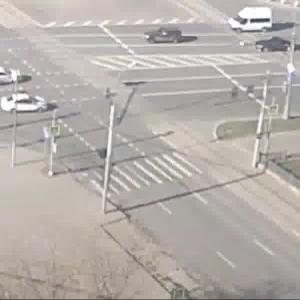car: (233, 5, 274, 35), (144, 26, 185, 49), (3, 95, 50, 114), (255, 38, 300, 53), (1, 64, 18, 88)
